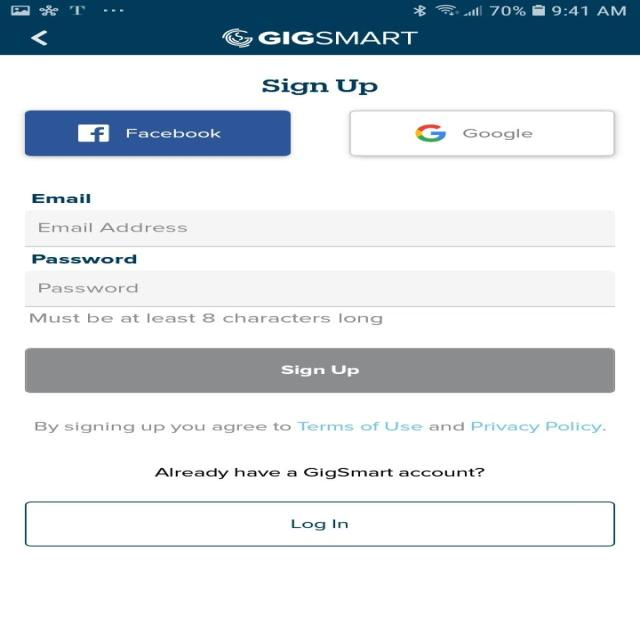EditText: (24, 270, 614, 307), (24, 210, 614, 247)
Icon: (30, 30, 47, 46)
Image: (222, 28, 254, 47)
Text: (34, 422, 606, 432), (30, 313, 382, 325), (153, 467, 484, 479), (257, 31, 418, 45), (262, 78, 378, 95), (39, 222, 188, 232), (32, 254, 137, 263), (39, 283, 138, 292), (33, 193, 90, 203)
TextButton: (24, 501, 614, 546), (24, 348, 614, 393), (25, 110, 291, 156), (348, 111, 614, 156)
